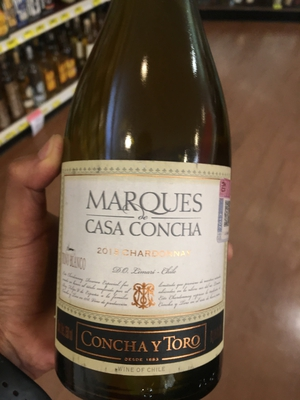marques de casa concha chardonnay: (52, 14, 245, 400)
